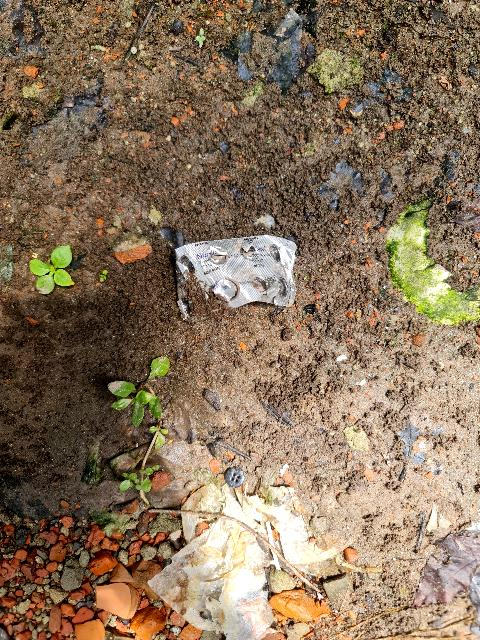medicine: (161, 225, 314, 325)
